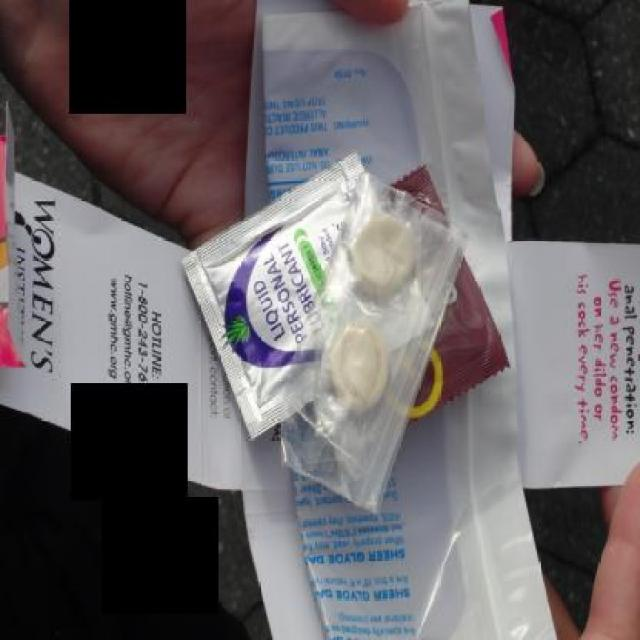plastic bag: (275, 170, 471, 516)
